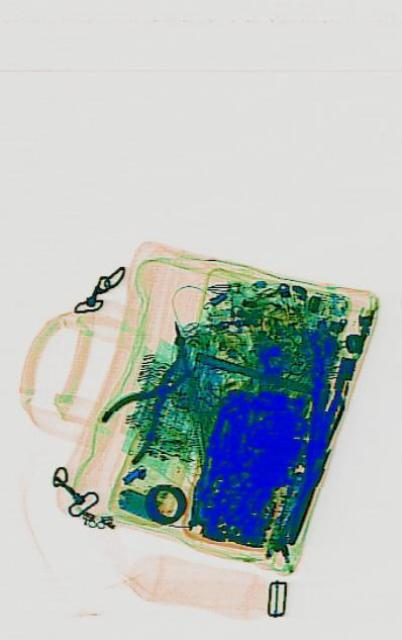Pliers: (98, 334, 201, 472)
